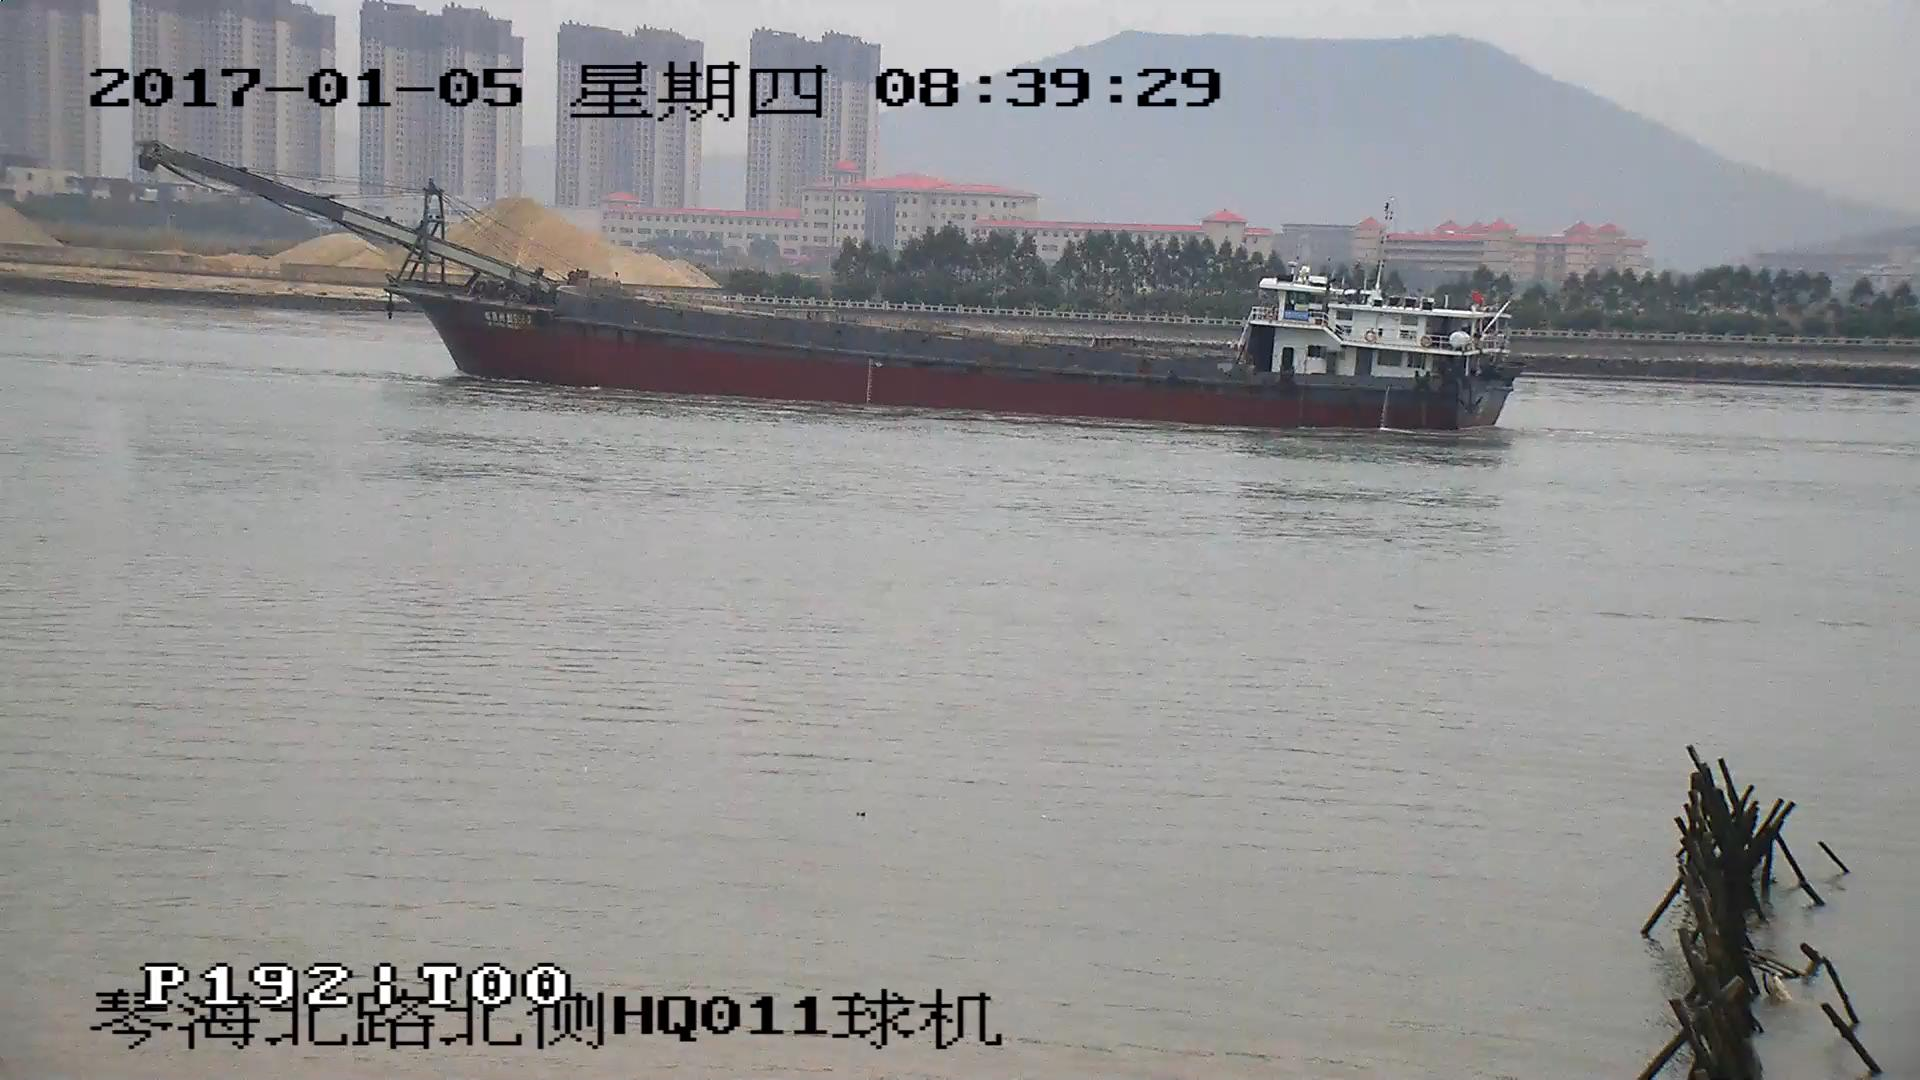bulk cargo carrier: (144, 146, 1525, 432)
